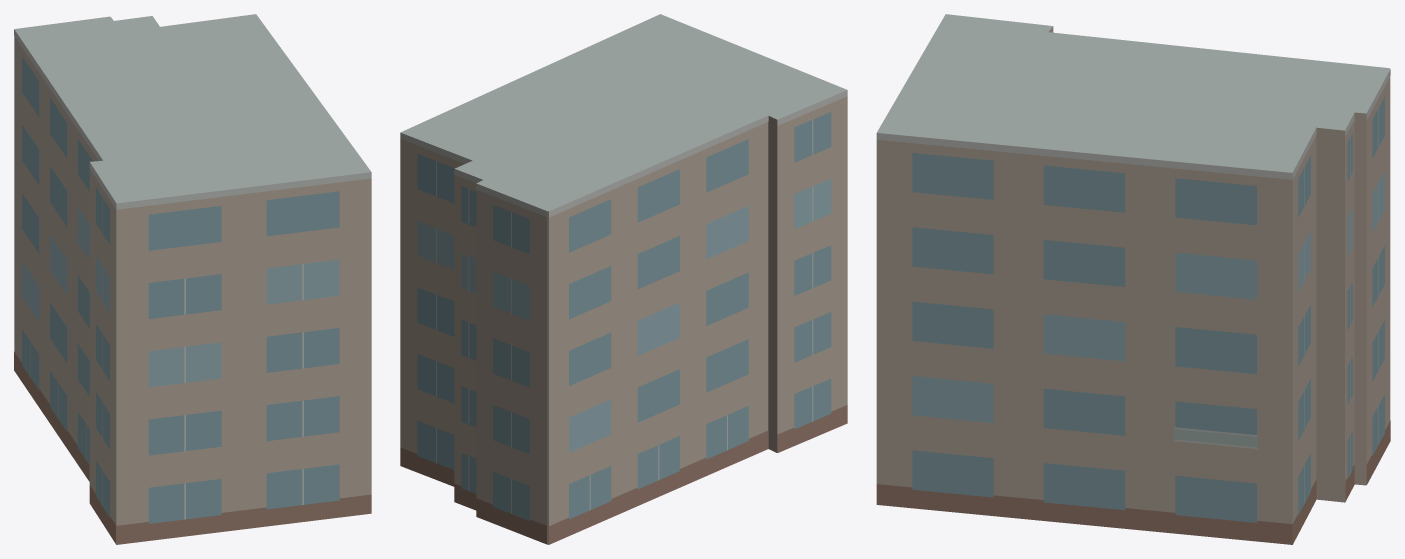
The model's file is survey-upis-32983136.glb.
The picture shows the model from 3 angles, left to right: view 1: azimuth 30°, elevation 25°; view 2: azimuth 150°, elevation 25°; view 3: azimuth 270°, elevation 25°; orthographic projection. The views are drawn at different scales.
Visible parts, largest first — view 1: survey-upis-32983136.tmp; view 2: survey-upis-32983136.tmp; view 3: survey-upis-32983136.tmp.
Boxes of the visible parts, x1,y1,x2,y2 form: survey-upis-32983136.tmp: (14,14,371,544); survey-upis-32983136.tmp: (400,14,847,544); survey-upis-32983136.tmp: (876,14,1390,544).
Bounding box in the file's own units: 12.11 × 13.2 × 16.54.
